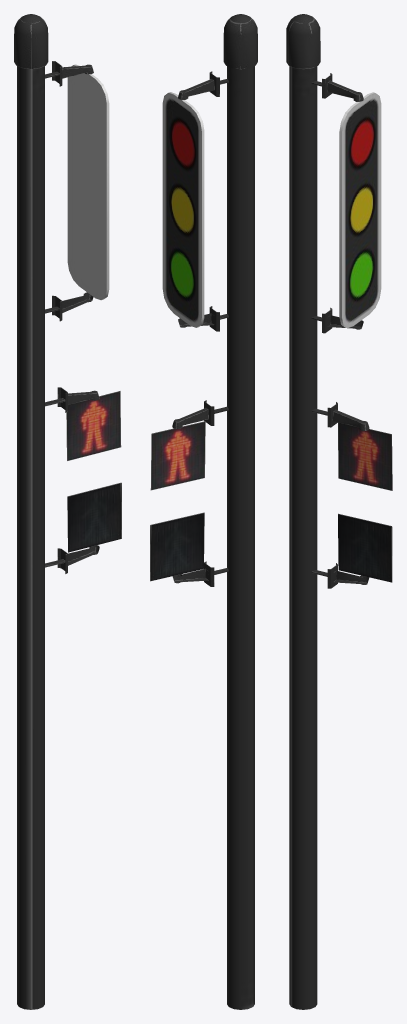
Rendered from honglvdeng.glb.
3 renders of one model, left to right at view 1: azimuth 30°, elevation 25°; view 2: azimuth 210°, elevation 25°; view 3: azimuth 330°, elevation 25°, orthographic.
Parts seen in each view (by area): view 1: SM_honglvdeng_05; view 2: SM_honglvdeng_05; view 3: SM_honglvdeng_05.
Part boxes in pixels (bbox=[...]): SM_honglvdeng_05: bbox=[14, 14, 121, 1009]; SM_honglvdeng_05: bbox=[150, 14, 257, 1009]; SM_honglvdeng_05: bbox=[286, 14, 392, 1009].
Size of the model in its own units: 0.6427 by 5.8 by 0.4172.
1 material, 1 textured.
